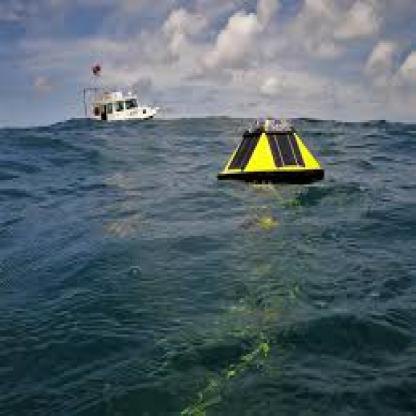buoy: (215, 116, 329, 191)
